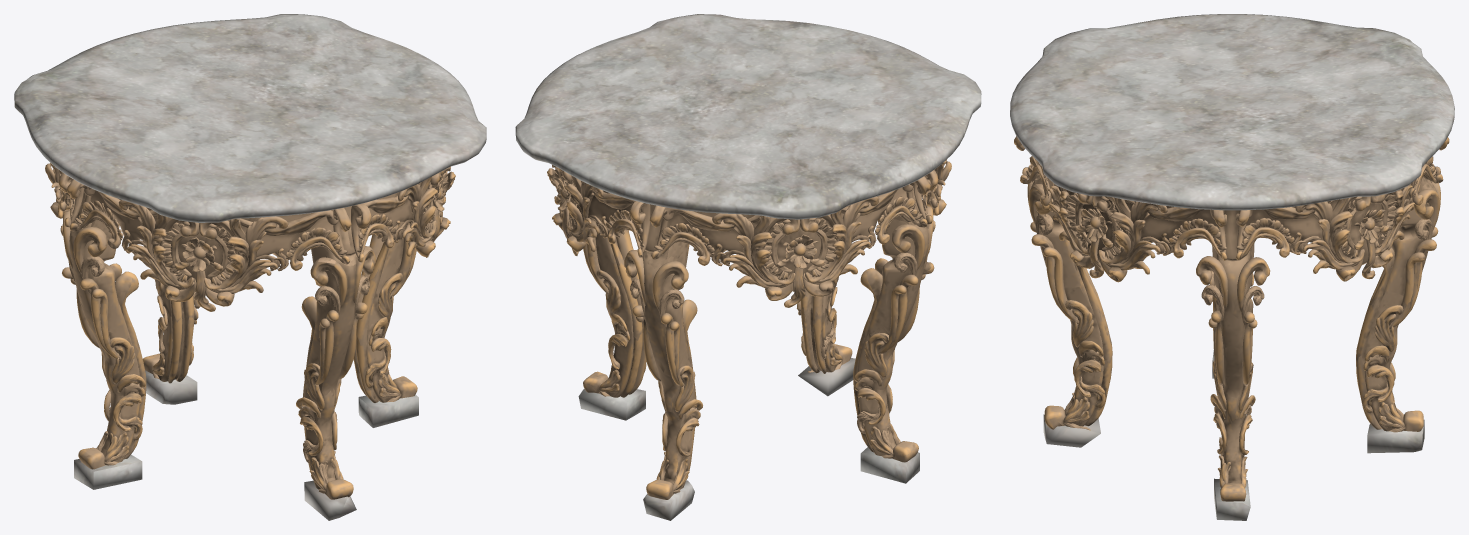
The model's file is antique_table.glb.
3 views of the same model, side by side, from view 1: azimuth 30°, elevation 25°; view 2: azimuth 150°, elevation 25°; view 3: azimuth 270°, elevation 25° (orthographic).
Parts seen in each view (by area): view 1: Object_3, Object_2, Object_4; view 2: Object_3, Object_2, Object_4; view 3: Object_3, Object_2, Object_4.
Part boxes in pixels (box(x1,y1,x2,y2)): Object_3: box(14, 14, 486, 332); Object_2: box(50, 163, 450, 520); Object_4: box(63, 216, 387, 390); Object_3: box(515, 14, 981, 327); Object_2: box(552, 161, 947, 520); Object_4: box(596, 213, 930, 394); Object_3: box(1010, 14, 1454, 326); Object_2: box(1020, 173, 1442, 520); Object_4: box(1029, 184, 1436, 397).
Bounding box in the file's own units: 26.59 × 22.7 × 26.6.
Materials: 1 (1 with a texture image).
